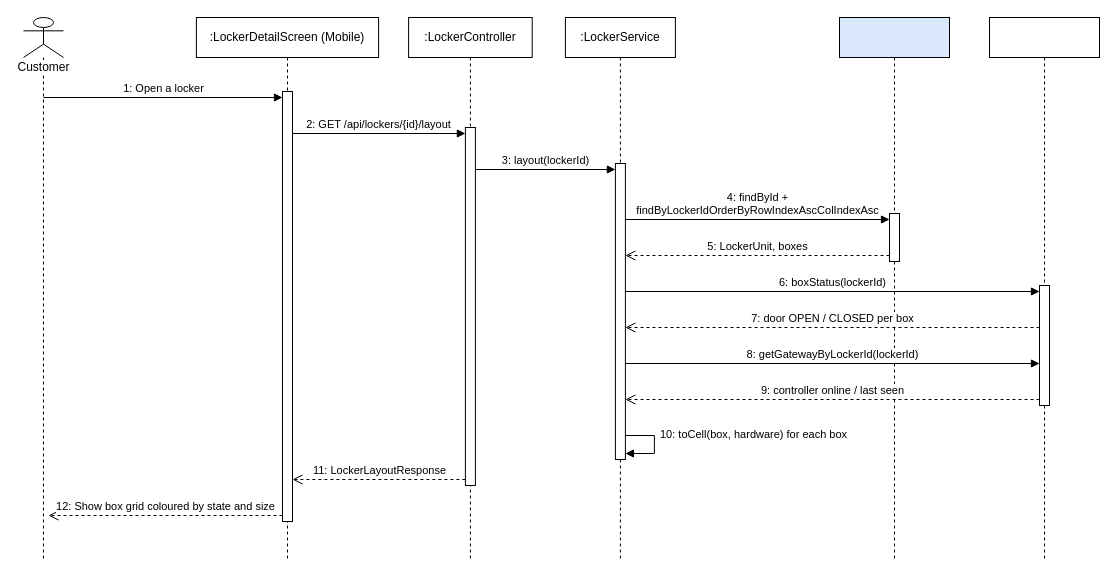
Image size: 1117x579. Some labels were removed from this diagram. The shapes that lost their labels are listed below. From the top down, each one's centre as x and y in pixels, then its label:
pixel 894 289: :locker_db
pixel 1044 289: :IotClient
